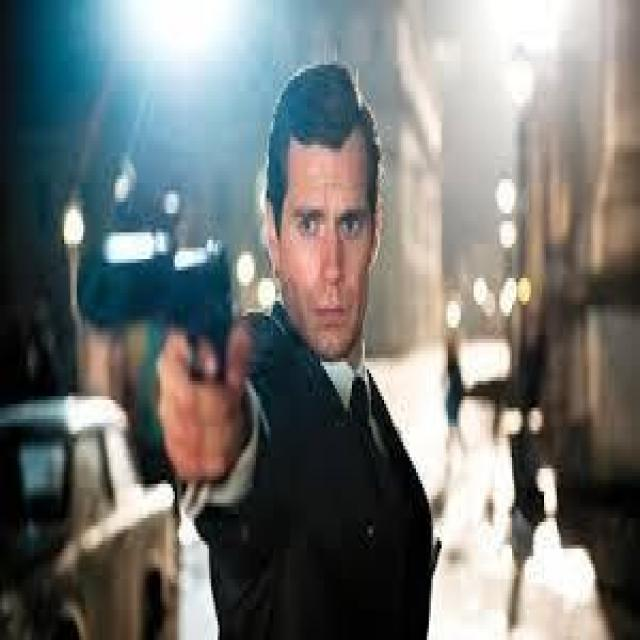Pistol: (70, 217, 232, 396)
